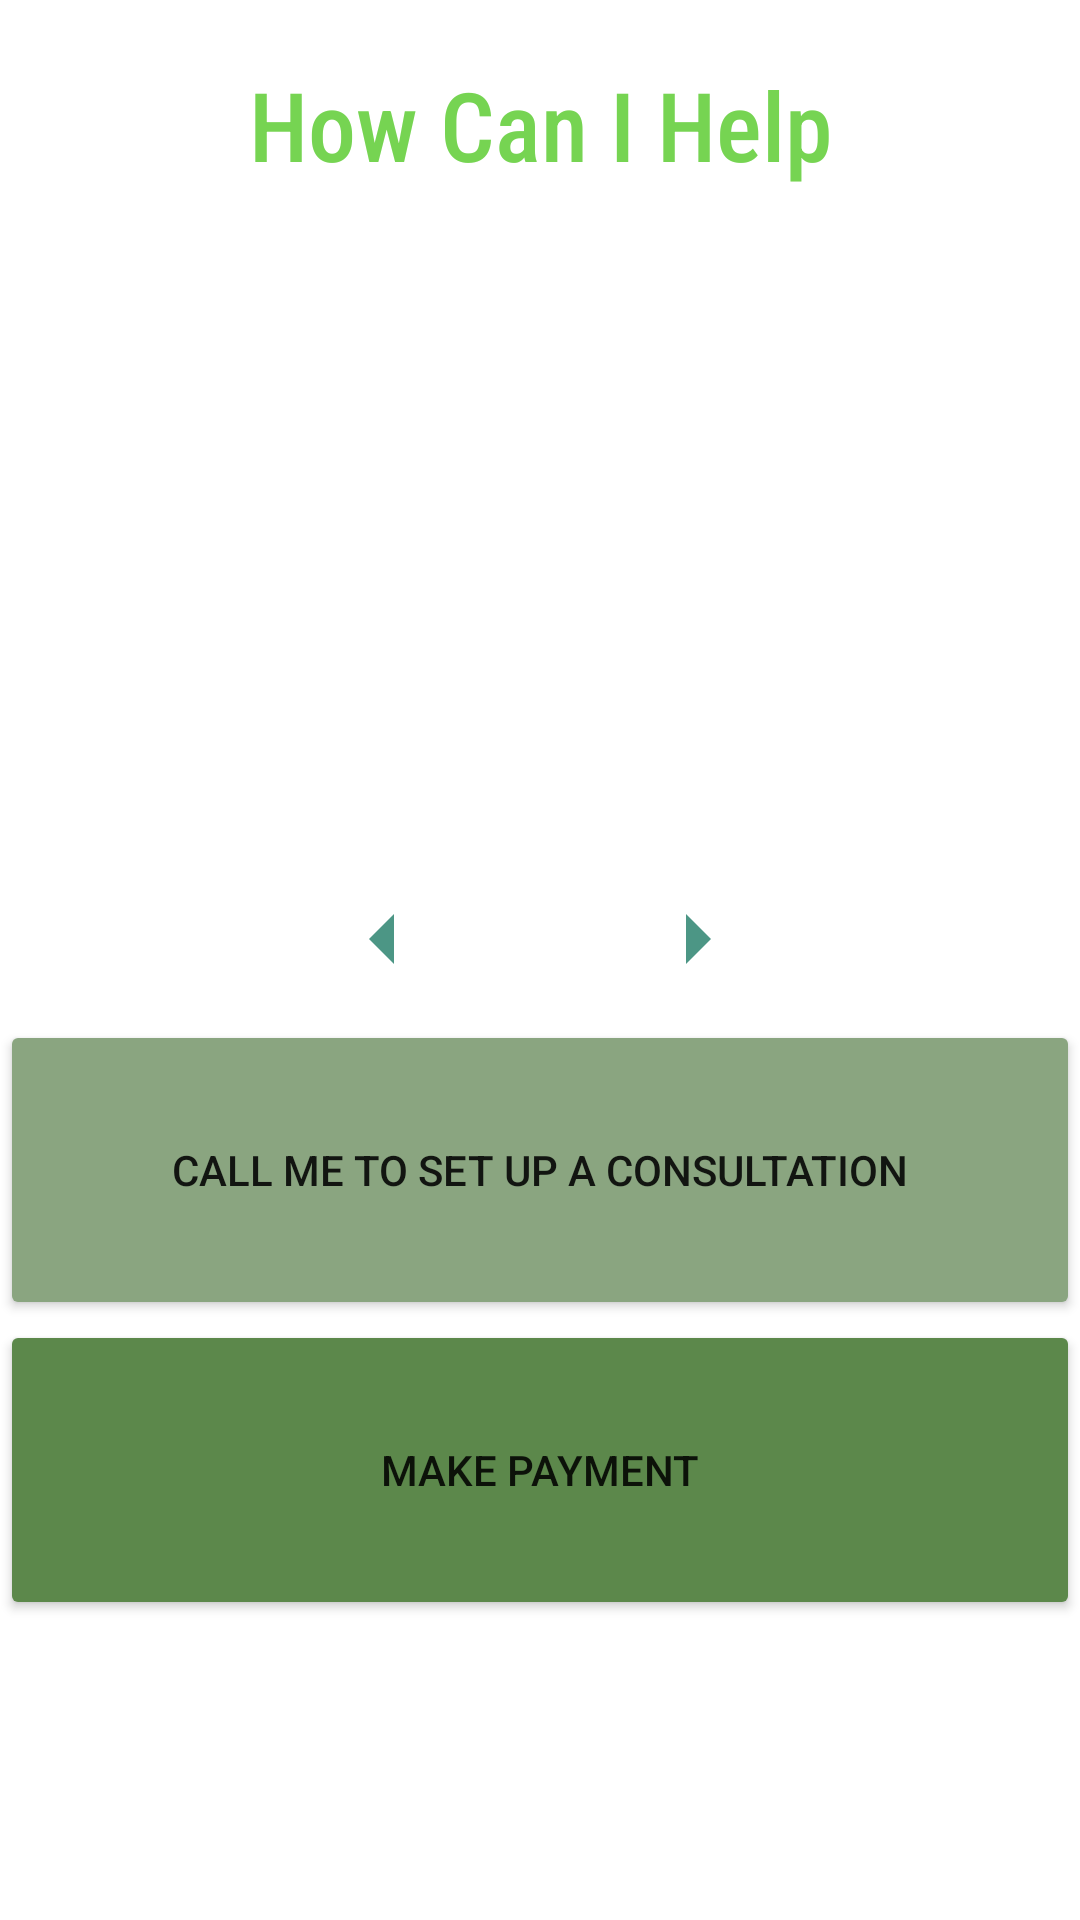

Named icons in this screenshot (1080×1920) and their centers, (x=x, y=y):
arrow left: (x=381, y=939)
arrow right: (x=698, y=939)
